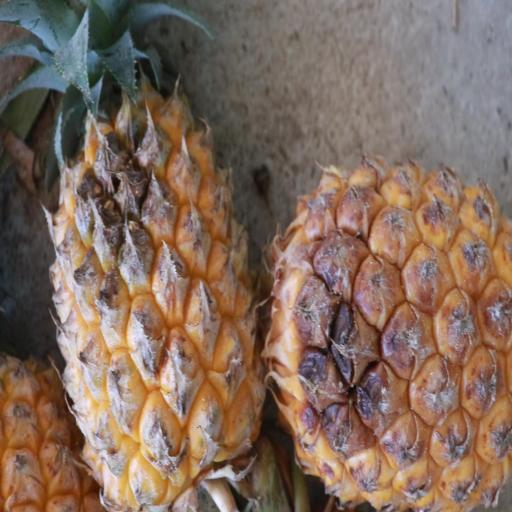Pineapple - v8 v1: (52, 4, 272, 512), (258, 162, 512, 512)
